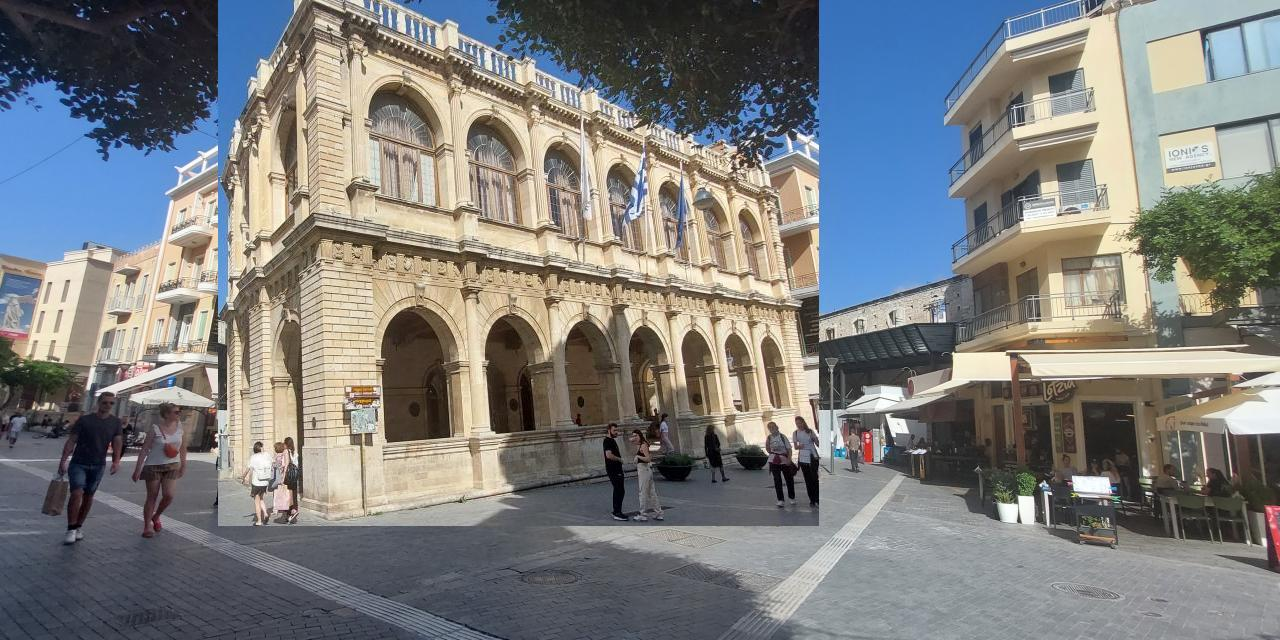Loggia: (219, 1, 820, 527)
